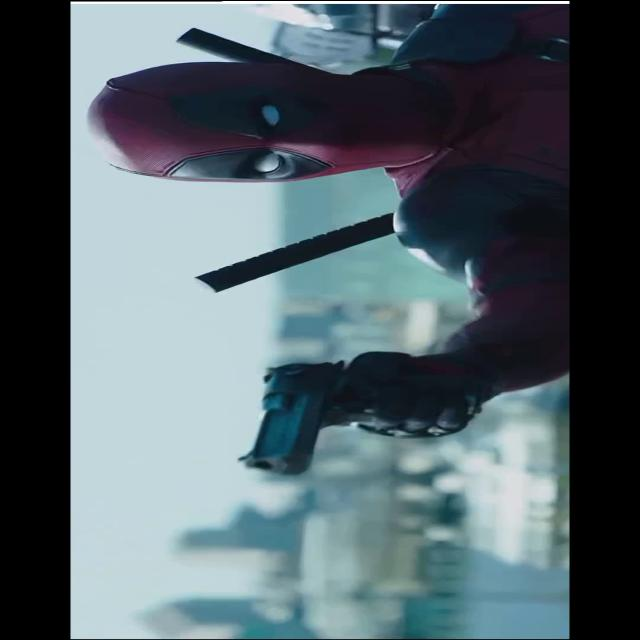weapons: (207, 348, 441, 487)
